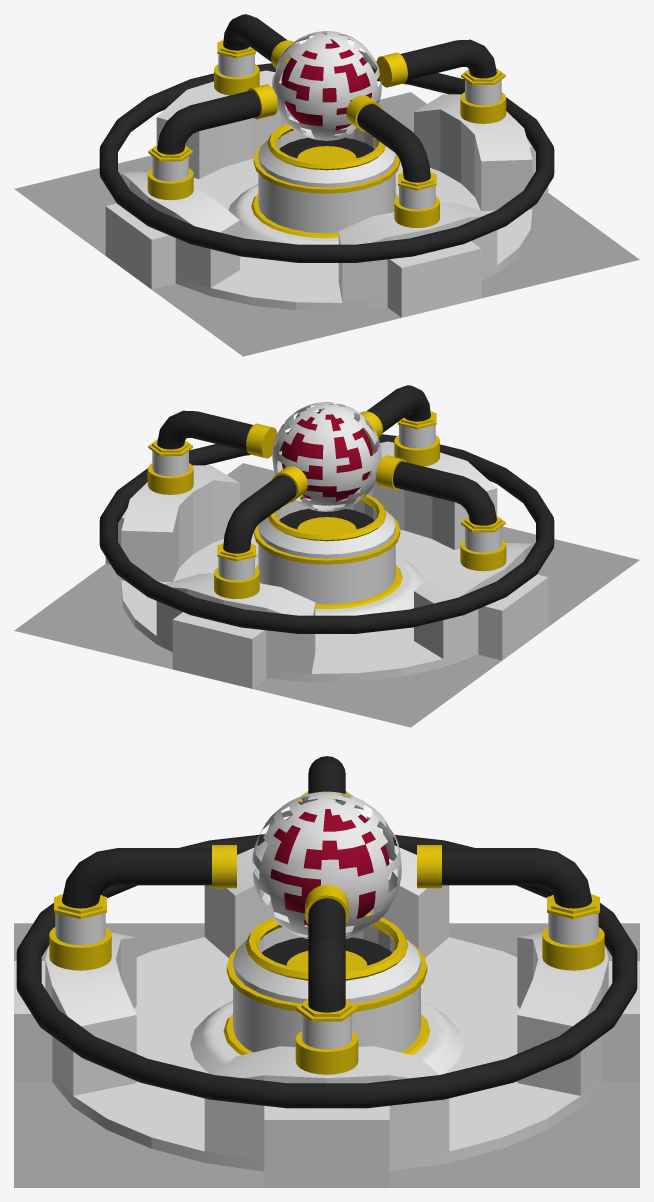
File: SM_gravity_powerstation.fbx
3 views of the same model, one above another, from view 1: azimuth 30°, elevation 25°; view 2: azimuth 150°, elevation 25°; view 3: azimuth 270°, elevation 25° (orthographic). The views are drawn at different scales.
Parts seen in each view (by area): view 1: SM_gravity_powerstation; view 2: SM_gravity_powerstation; view 3: SM_gravity_powerstation.
Boxes of the visible parts, <box> form: SM_gravity_powerstation: <box>14,14,639,356</box>; SM_gravity_powerstation: <box>14,385,639,727</box>; SM_gravity_powerstation: <box>14,756,639,1187</box>.
Bounding box in the file's own units: 1000 × 453 × 1000.
